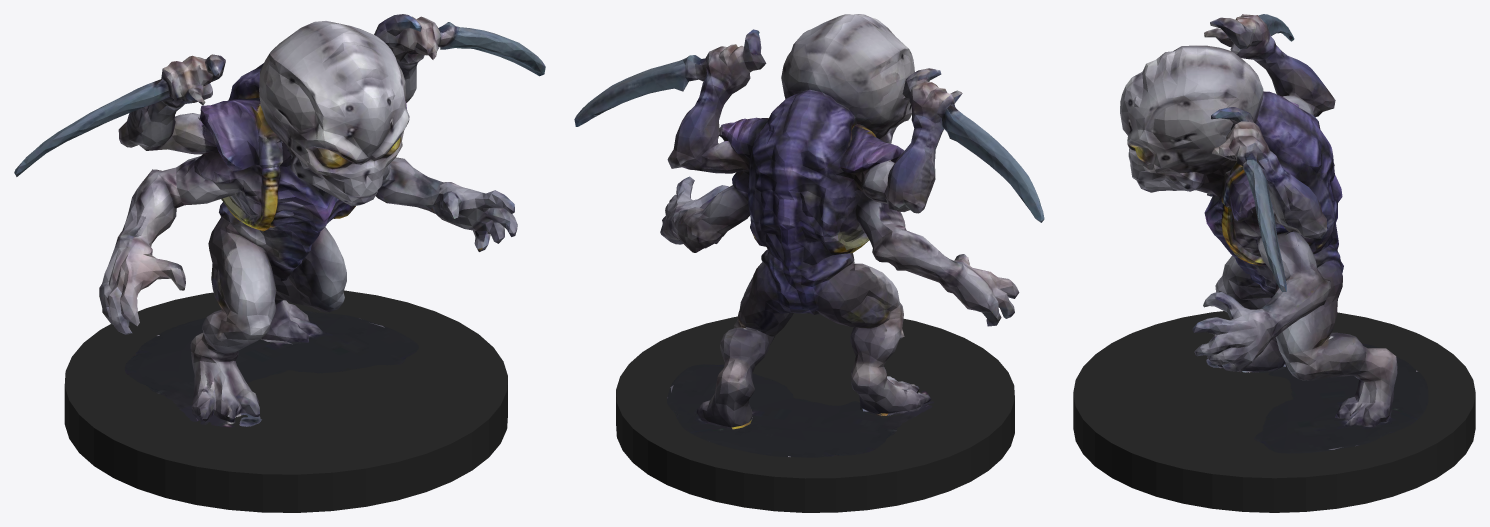
File: wb-locus.glb
3 views of the same model, side by side, from view 1: azimuth 30°, elevation 25°; view 2: azimuth 150°, elevation 25°; view 3: azimuth 270°, elevation 25° (orthographic). The views are drawn at different scales.
Visible parts, largest first — view 1: figure, base; view 2: figure, base; view 3: figure, base.
Boxes of the visible parts, x1,y1,x2,y2 form: figure: [14, 14, 545, 427]; base: [64, 290, 507, 512]; figure: [574, 14, 1044, 457]; base: [616, 313, 1014, 512]; figure: [1120, 14, 1428, 453]; base: [1073, 311, 1475, 512].
Bounding box in the file's own units: 1.72 × 1.32 × 1.26.
Materials: 2 (1 with a texture image).
